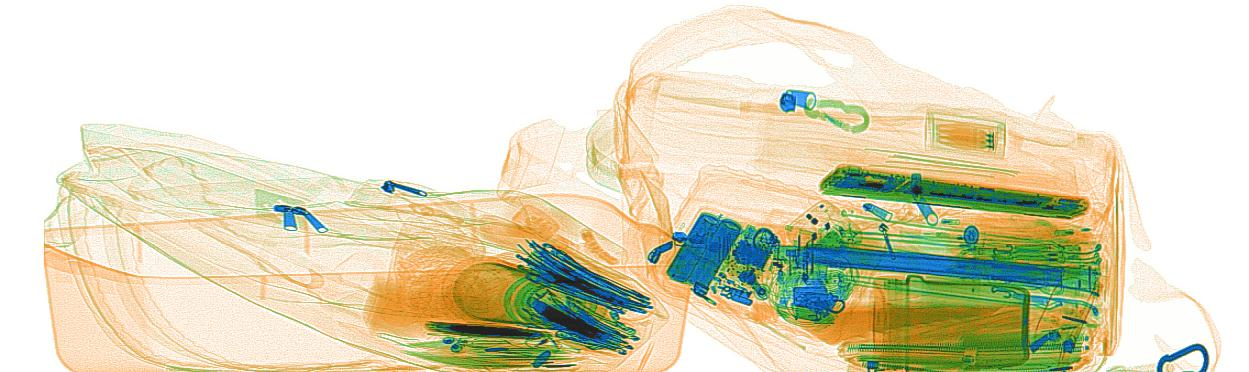battery: (660, 210, 740, 295)
